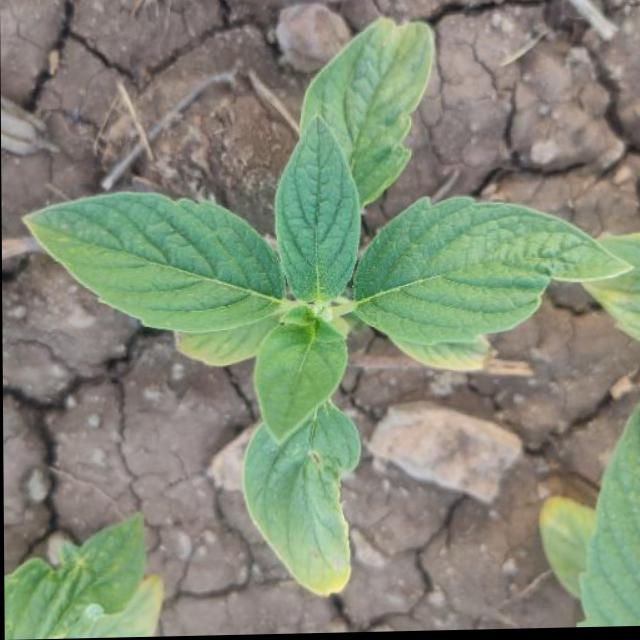crop: (20, 17, 637, 597)
